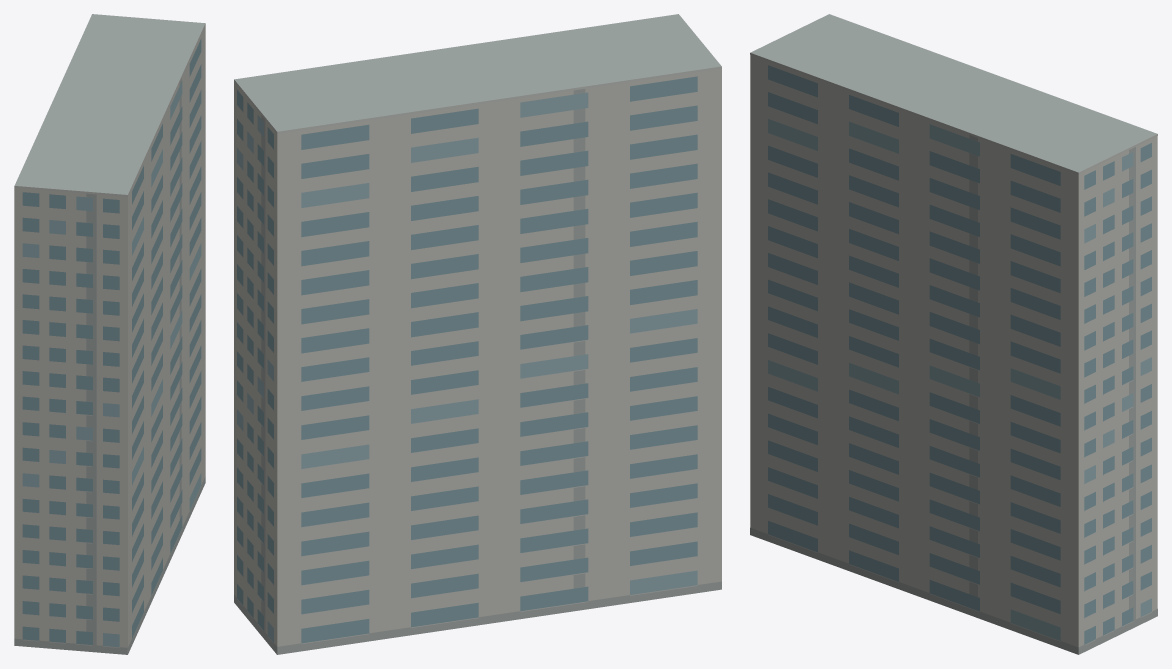
The model's file is residential-7ebd73d0-e3ca-4c1f-9109-b31b634f6778.glb.
3 views of the same model, side by side, from view 1: azimuth 30°, elevation 25°; view 2: azimuth 150°, elevation 25°; view 3: azimuth 270°, elevation 25° (orthographic). The views are drawn at different scales.
Parts seen in each view (by area): view 1: residential-7ebd73d0-e3ca-4c1f-9109-b31b634f6778.tmp; view 2: residential-7ebd73d0-e3ca-4c1f-9109-b31b634f6778.tmp; view 3: residential-7ebd73d0-e3ca-4c1f-9109-b31b634f6778.tmp.
Part boxes in pixels (left/top/right/bottom): residential-7ebd73d0-e3ca-4c1f-9109-b31b634f6778.tmp: left=14, top=14, right=205, bottom=654; residential-7ebd73d0-e3ca-4c1f-9109-b31b634f6778.tmp: left=234, top=14, right=721, bottom=654; residential-7ebd73d0-e3ca-4c1f-9109-b31b634f6778.tmp: left=750, top=14, right=1157, bottom=654.
Bounding box in the file's own units: 39.5 × 56 × 42.9.
